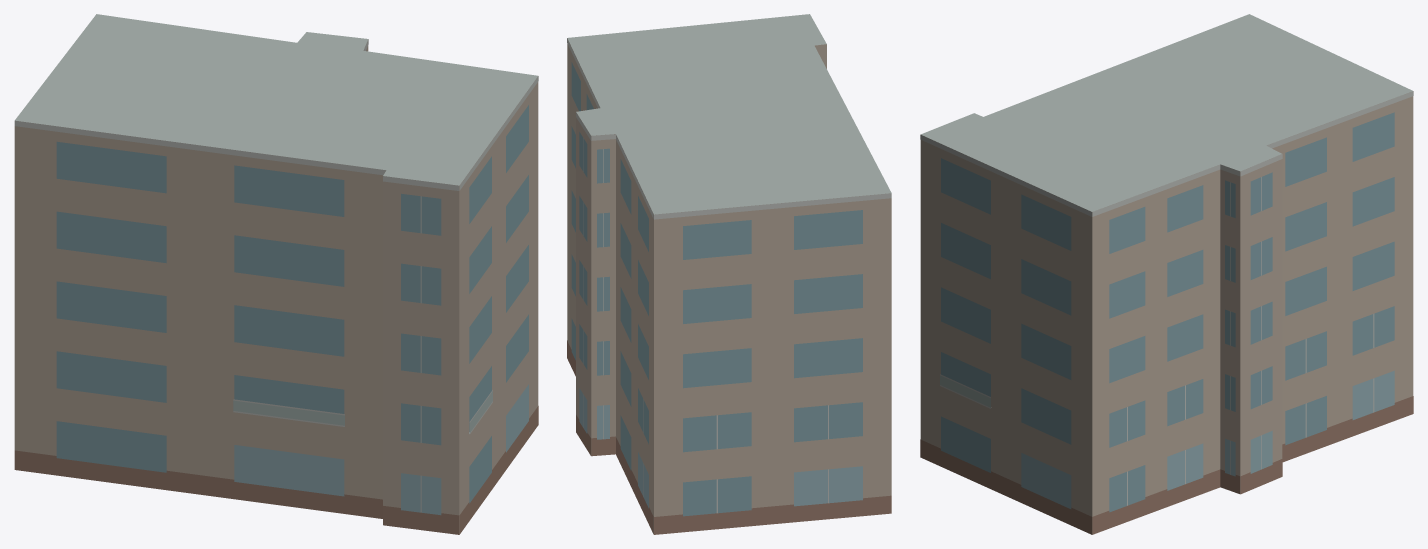
Rendered from survey-upis-32675618.glb.
3 renders of one model, left to right at view 1: azimuth 30°, elevation 25°; view 2: azimuth 150°, elevation 25°; view 3: azimuth 270°, elevation 25°, orthographic. The views are drawn at different scales.
Parts seen in each view (by area): view 1: survey-upis-32675618.tmp; view 2: survey-upis-32675618.tmp; view 3: survey-upis-32675618.tmp.
Boxes of the visible parts, x1,y1,x2,y2 form: survey-upis-32675618.tmp: [14, 14, 538, 534]; survey-upis-32675618.tmp: [567, 14, 891, 534]; survey-upis-32675618.tmp: [920, 14, 1413, 534].
Size of the model in its own units: 20.39 by 15.5 by 21.45.
